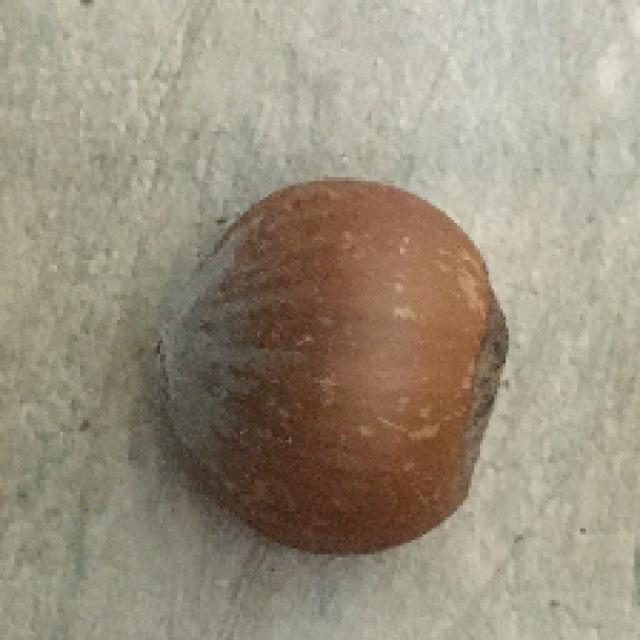QualityHazelnut: (157, 177, 516, 559)
